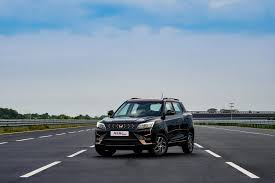XUV 400: (94, 93, 196, 160)
